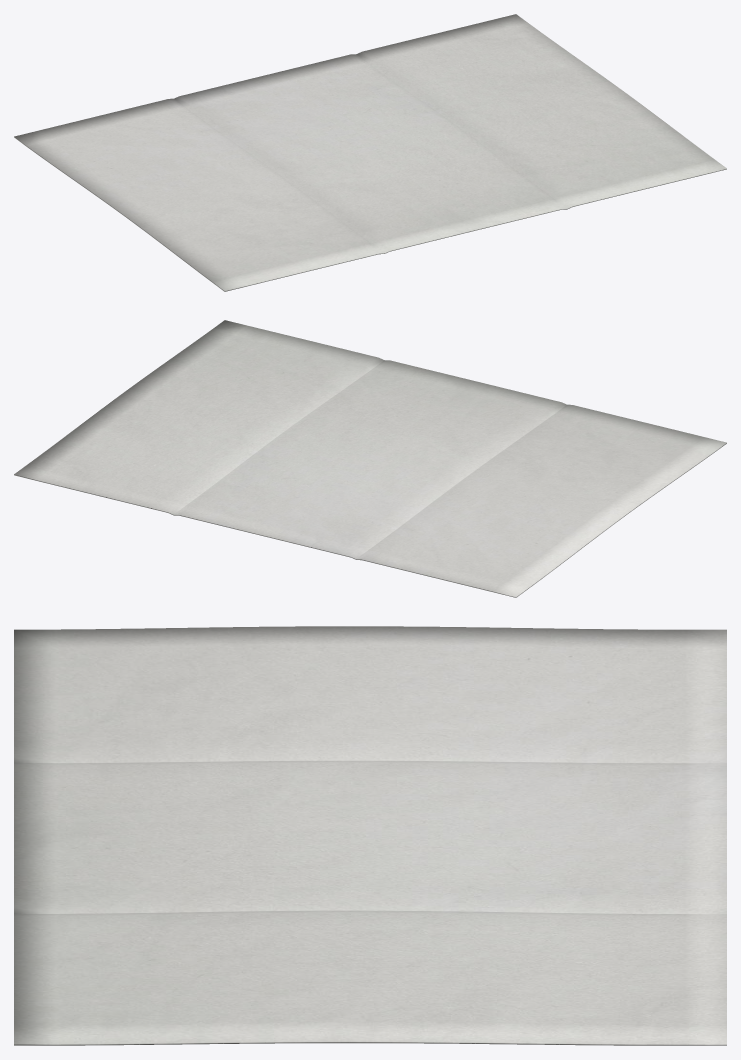
File: Folded Paper.fbx
The picture shows the model from 3 angles, top to bottom: view 1: azimuth 30°, elevation 25°; view 2: azimuth 150°, elevation 25°; view 3: azimuth 270°, elevation 25°; orthographic projection. The views are drawn at different scales.
Parts seen in each view (by area): view 1: Object_2; view 2: Object_2; view 3: Object_2.
Boxes of the visible parts, box(x1,y1,x2,y2) form: Object_2: box(14, 14, 726, 291); Object_2: box(14, 320, 726, 597); Object_2: box(14, 626, 726, 1045).
Bounding box in the file's own units: 317 × 3.03 × 231.
Materials: 1 (1 with a texture image).
